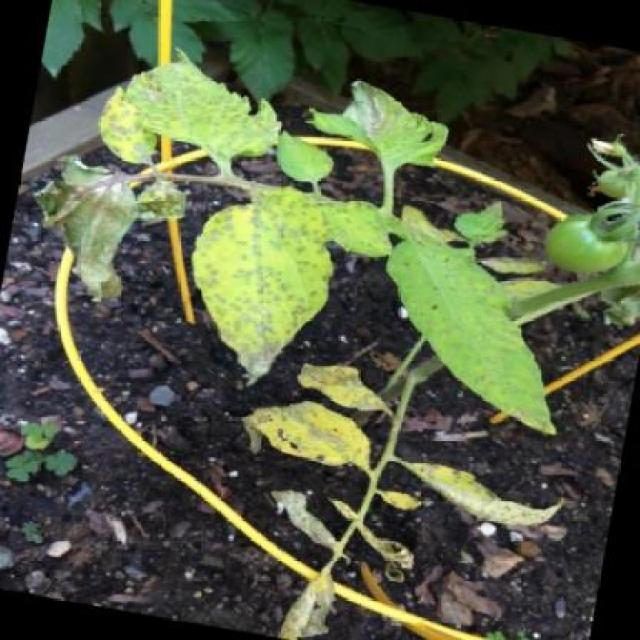Septoria leaf spot: (363, 208, 588, 437), (176, 159, 343, 402), (105, 26, 302, 164), (319, 46, 465, 181), (227, 392, 396, 485), (309, 183, 398, 261)
